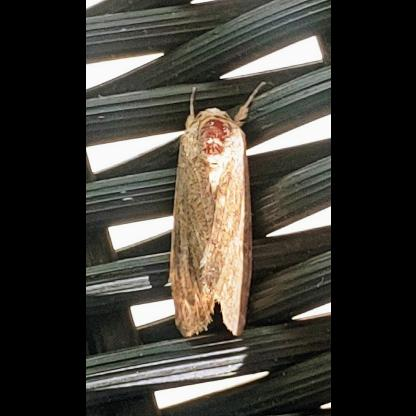Fall Armyworm Moth: (164, 78, 270, 342)
